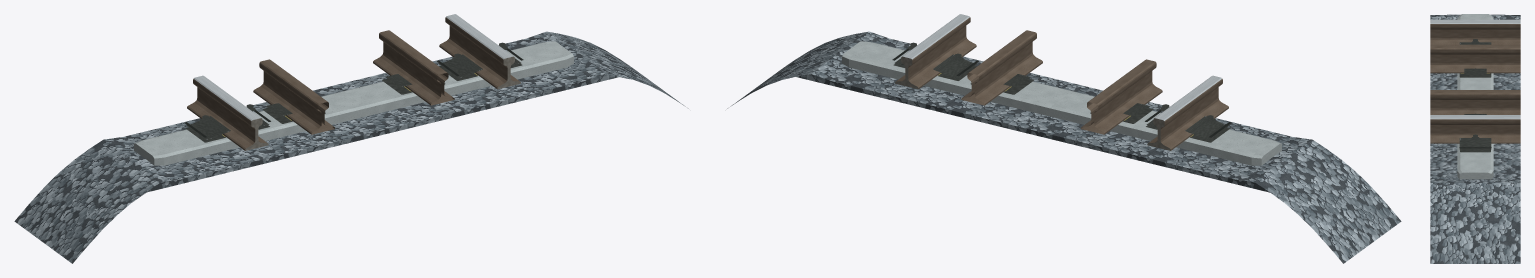
File: center_guard_mid.obj
3 renders of one model, left to right at view 1: azimuth 30°, elevation 25°; view 2: azimuth 150°, elevation 25°; view 3: azimuth 270°, elevation 25°, orthographic. The views are drawn at different scales.
Parts seen in each view (by area): view 1: ballast, sleeper, center_guard_left, center_guard_right, rail_left, rail_right, fastener_left, fastener_right; view 2: ballast, sleeper, center_guard_left, center_guard_right, rail_left, rail_right, fastener_left, fastener_right; view 3: ballast, center_guard_left, rail_right, rail_left, center_guard_right, sleeper, fastener_right, center_fastener_left, fastener_left.
Boxes of the visible parts, x1,y1,x2,y2 form: ballast: (14,31,688,263); sleeper: (134,41,573,165); center_guard_left: (253,59,334,134); center_guard_right: (373,30,454,105); rail_left: (187,75,266,150); rail_right: (439,14,519,88); fastener_left: (184,104,270,142); fastener_right: (437,42,523,80); ballast: (727,31,1401,263); sleeper: (842,41,1281,165); center_guard_left: (1081,59,1162,134); center_guard_right: (961,30,1042,105); rail_left: (1149,75,1228,150); rail_right: (896,14,976,88); fastener_left: (1145,104,1231,142); fastener_right: (892,42,978,80); ballast: (1430,14,1520,263); center_guard_left: (1430,44,1520,73); rail_right: (1430,115,1520,143); rail_left: (1430,19,1520,44); center_guard_right: (1430,90,1520,114); sleeper: (1457,14,1493,179); fastener_right: (1459,134,1491,152); center_fastener_left: (1459,68,1491,77); fastener_left: (1459,39,1491,44).
Bounding box in the file's own units: 3.7 × 0.5683 × 0.6.
1 material, 1 textured.
